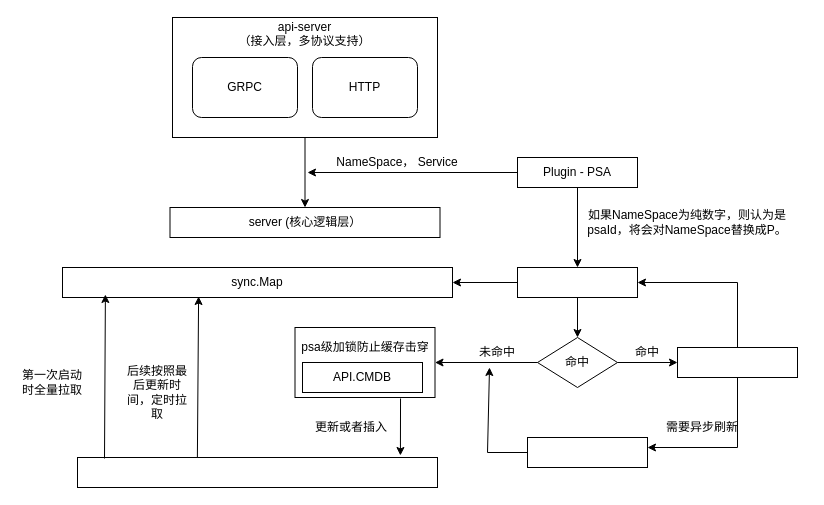
Some shapes in this 824 by 505 pixel diagram are drawn without their labels. The shapes that lost their labels are listed below. From the top down, each one's centre as x and y in pixels, then its label:
At (577,282): "查询Cache.Psa".
At (737,362): "判断上次更新时间".
At (257,472): "Store.PSA (实现为DB一张表）".
At (587,452): "放入队列中异步消费".
